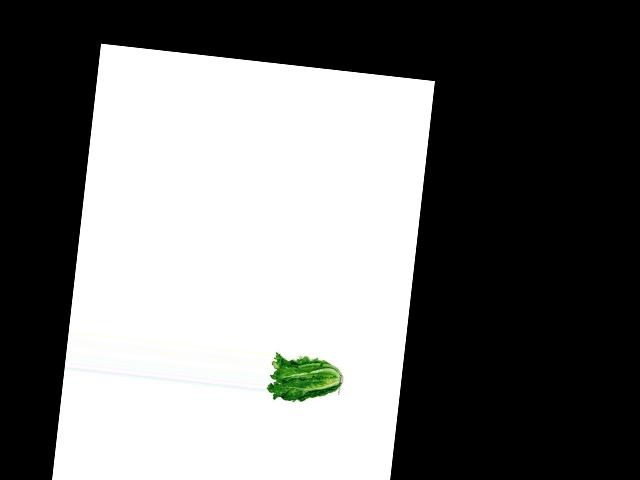lettuce: (265, 350, 343, 407)
